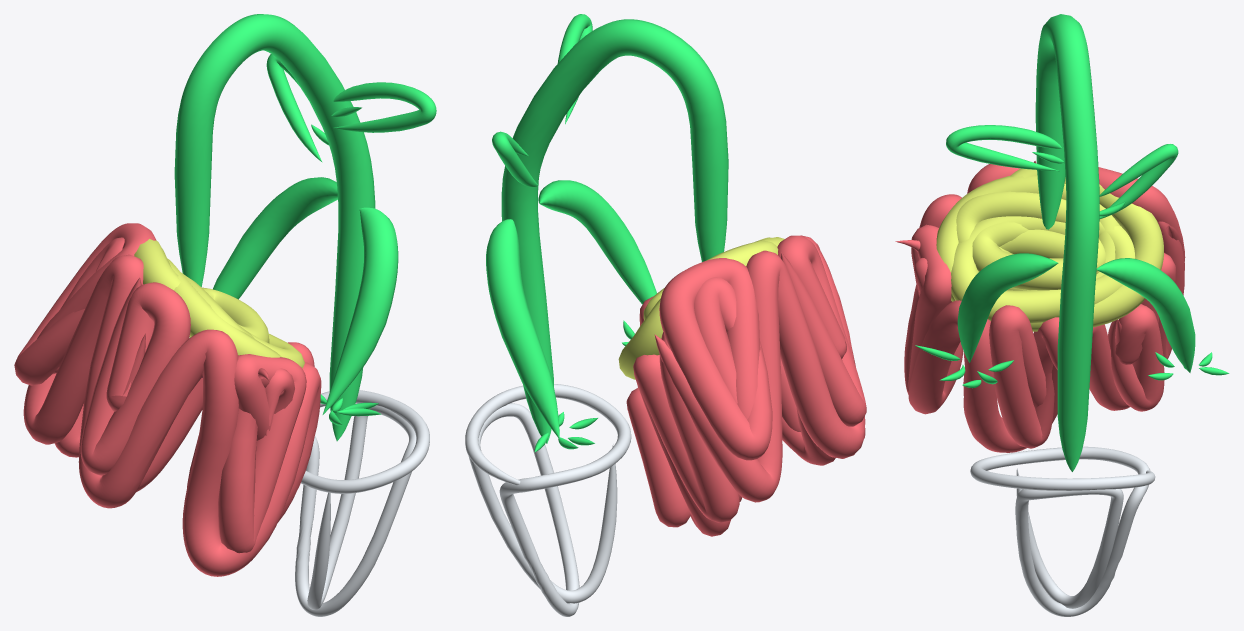
File: sadflower.glb
3 renders of one model, left to right at view 1: azimuth 30°, elevation 25°; view 2: azimuth 150°, elevation 25°; view 3: azimuth 270°, elevation 25°, orthographic. The views are drawn at different scales.
Visible parts, largest first — view 1: sadflower; view 2: sadflower; view 3: sadflower.
Boxes of the visible parts, <box> form: sadflower: <box>14,14,436,616</box>; sadflower: <box>465,14,866,616</box>; sadflower: <box>895,14,1229,616</box>.
Size of the model in its own units: 0.3849 by 0.635 by 0.3397.
Materials: 1 (1 with a texture image).
